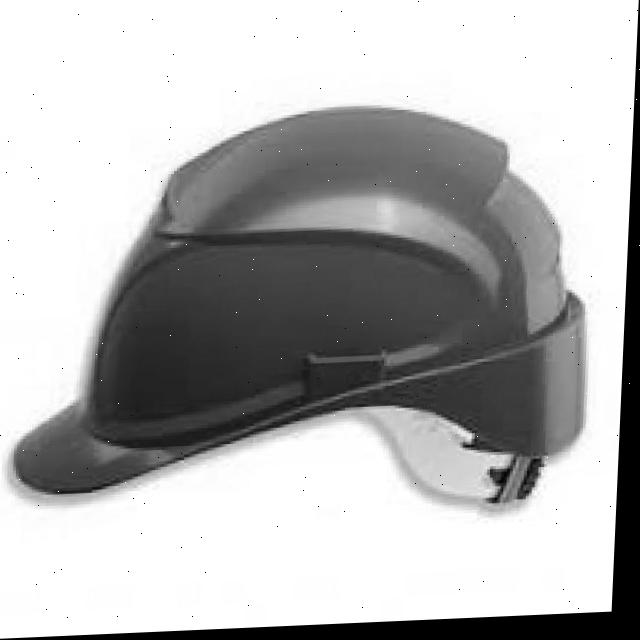Helmet: (8, 98, 606, 544)
